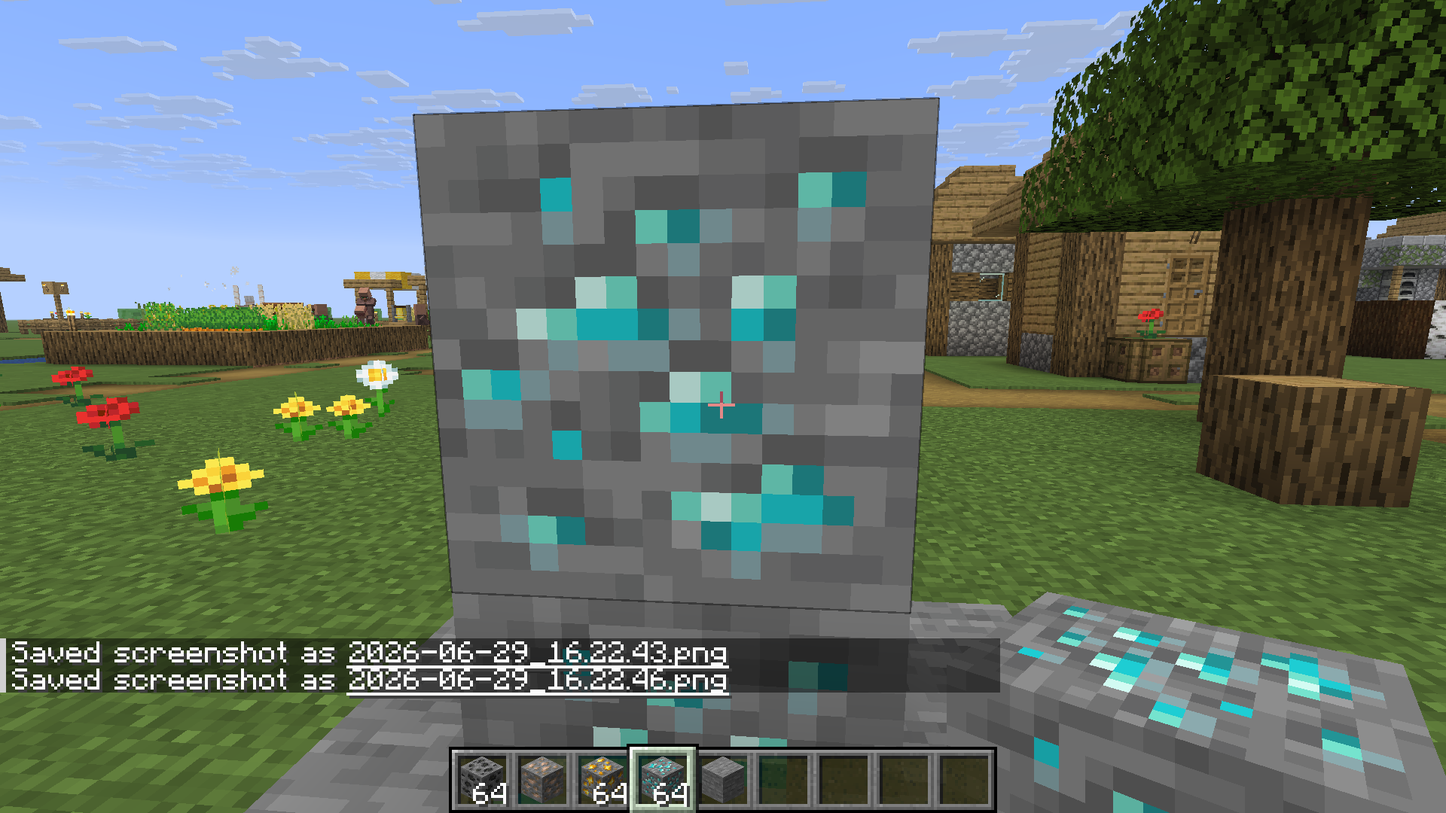diamond ore: (413, 115, 951, 614)
villager: (346, 283, 386, 334)
